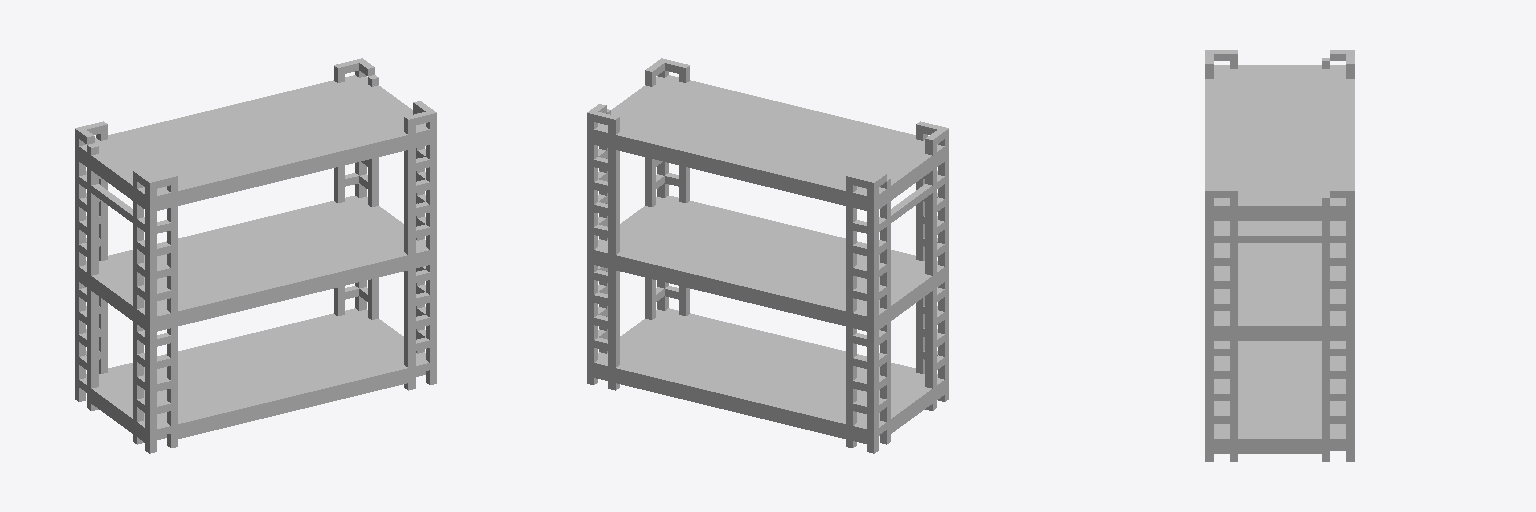
The model's file is Bunker - Free Sample-82-Shelf-4.obj.
3 renders of one model, left to right at view 1: azimuth 30°, elevation 25°; view 2: azimuth 150°, elevation 25°; view 3: azimuth 270°, elevation 25°, orthographic.
Visible parts, largest first — view 1: Shelf-4; view 2: Shelf-4; view 3: Shelf-4.
Boxes of the visible parts, x1,y1,x2,y2 form: Shelf-4: [75, 58, 436, 453]; Shelf-4: [587, 58, 948, 453]; Shelf-4: [1205, 50, 1354, 461].
Size of the model in its own units: 0.8 by 0.72 by 0.36.